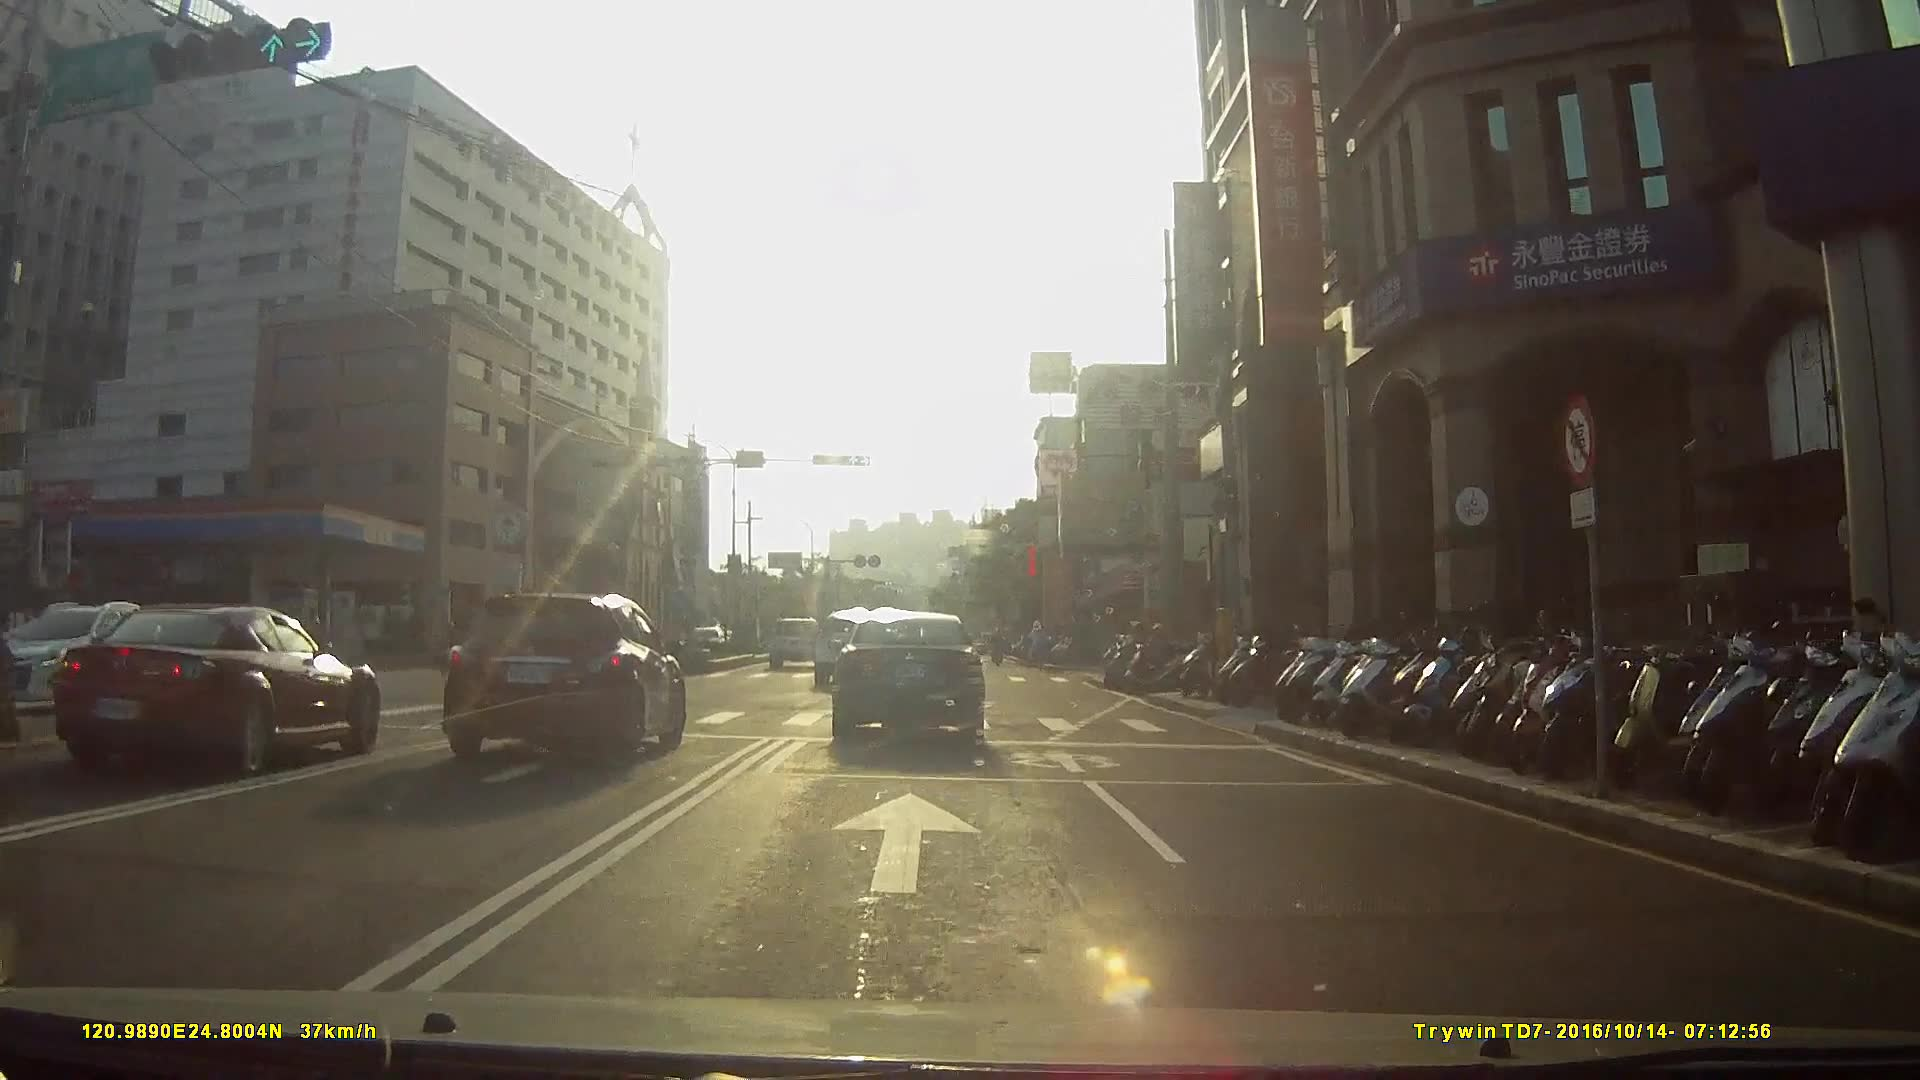rider: (1116, 620, 1200, 693)
vehicle: (44, 603, 392, 787), (433, 588, 703, 768), (826, 607, 1000, 745), (813, 606, 892, 690), (769, 613, 828, 668)
